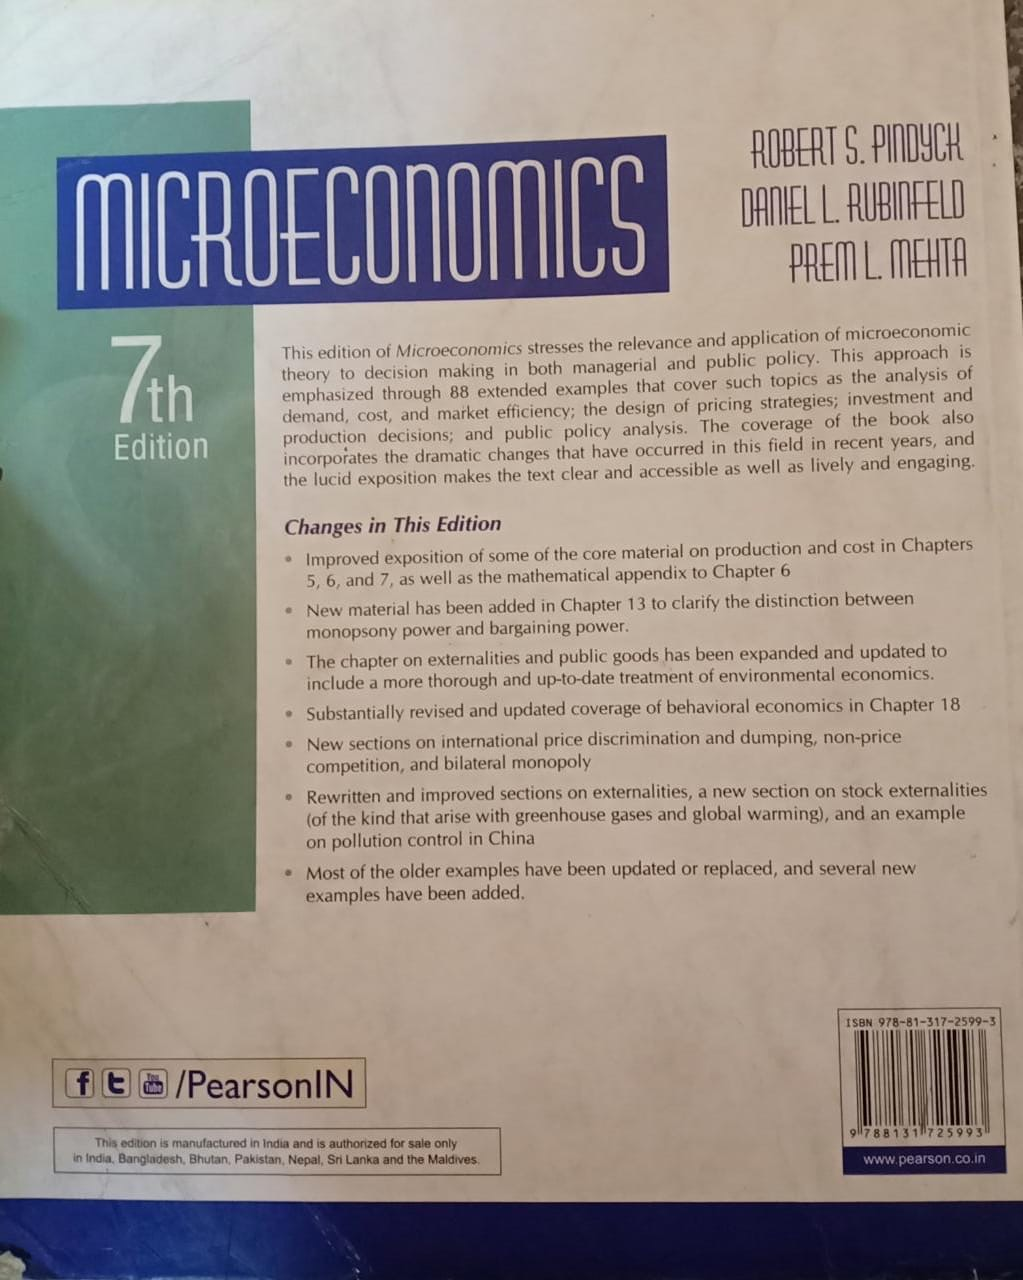barcode: (848, 1025, 994, 1146)
